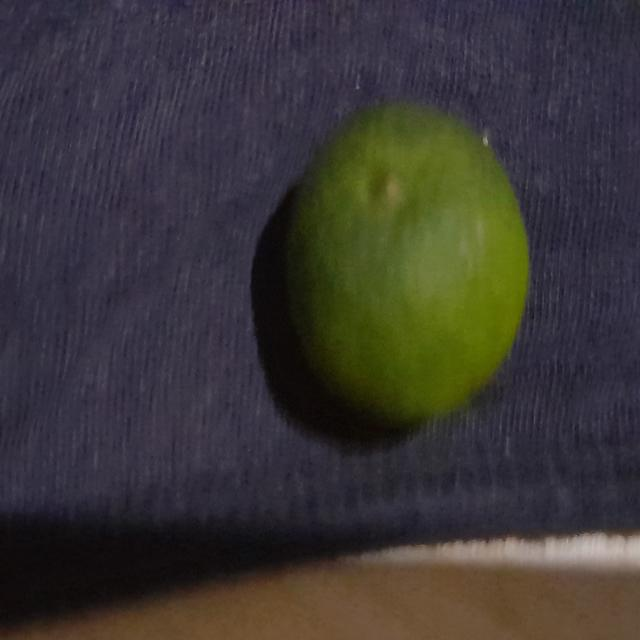heathy: (276, 86, 532, 439)
